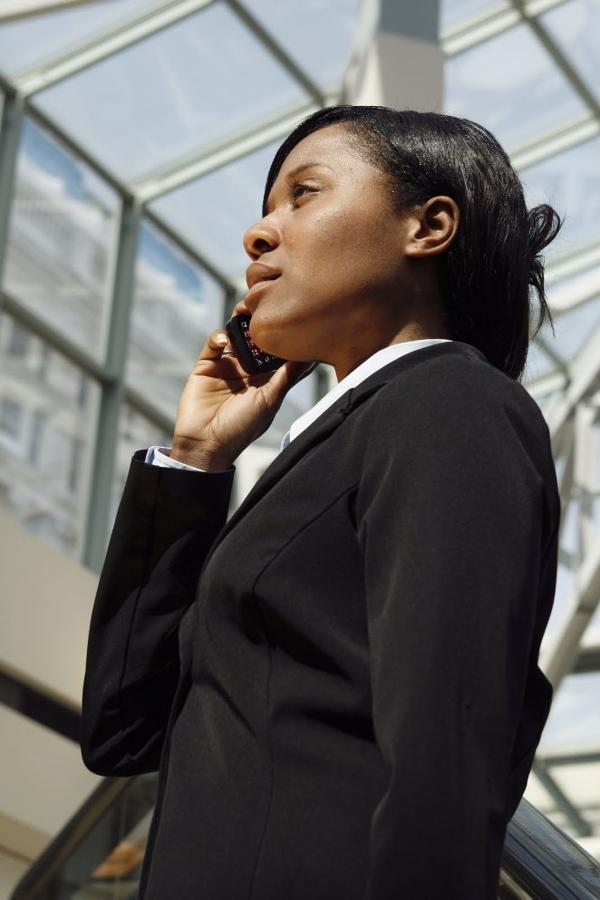person: (82, 102, 561, 890)
